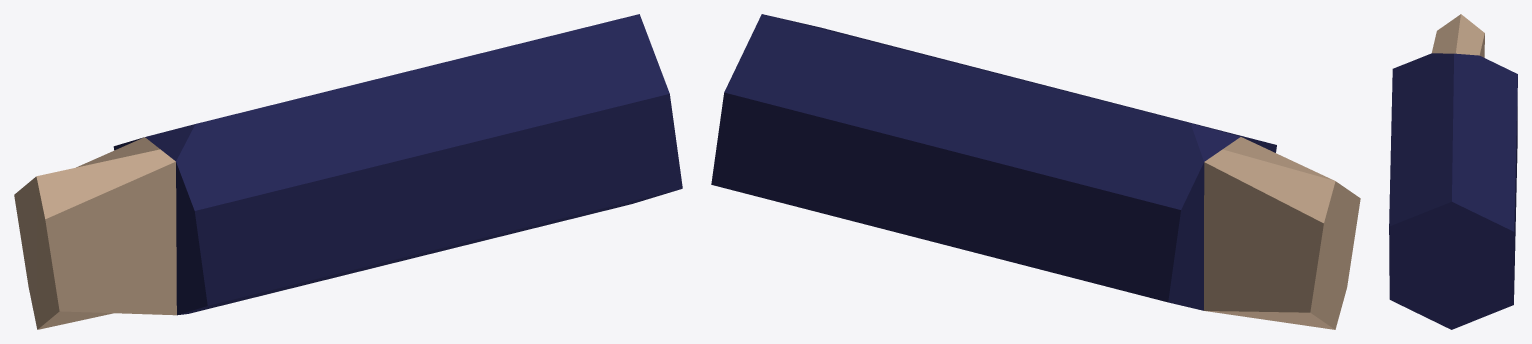
3 views of the same model, side by side, from view 1: azimuth 30°, elevation 25°; view 2: azimuth 150°, elevation 25°; view 3: azimuth 270°, elevation 25° (orthographic). The views are drawn at different scales.
Parts seen in each view (by area): view 1: 手臂; view 2: 手臂; view 3: 手臂.
Boxes of the visible parts, x1,y1,x2,y2 form: 手臂: (14, 14, 682, 329); 手臂: (711, 14, 1360, 329); 手臂: (1389, 14, 1517, 329).
Size of the model in its own units: 305 by 91.11 by 79.93.
